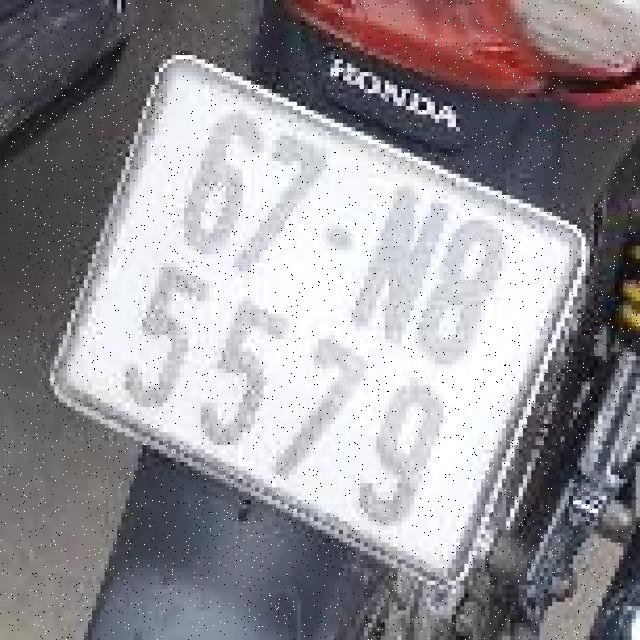5: (182, 289, 304, 457), (106, 251, 224, 415)
6: (166, 94, 282, 269)
7: (255, 322, 382, 498), (226, 120, 339, 280)
8: (402, 203, 528, 385)
9: (339, 365, 464, 542)
N: (335, 170, 466, 358)
